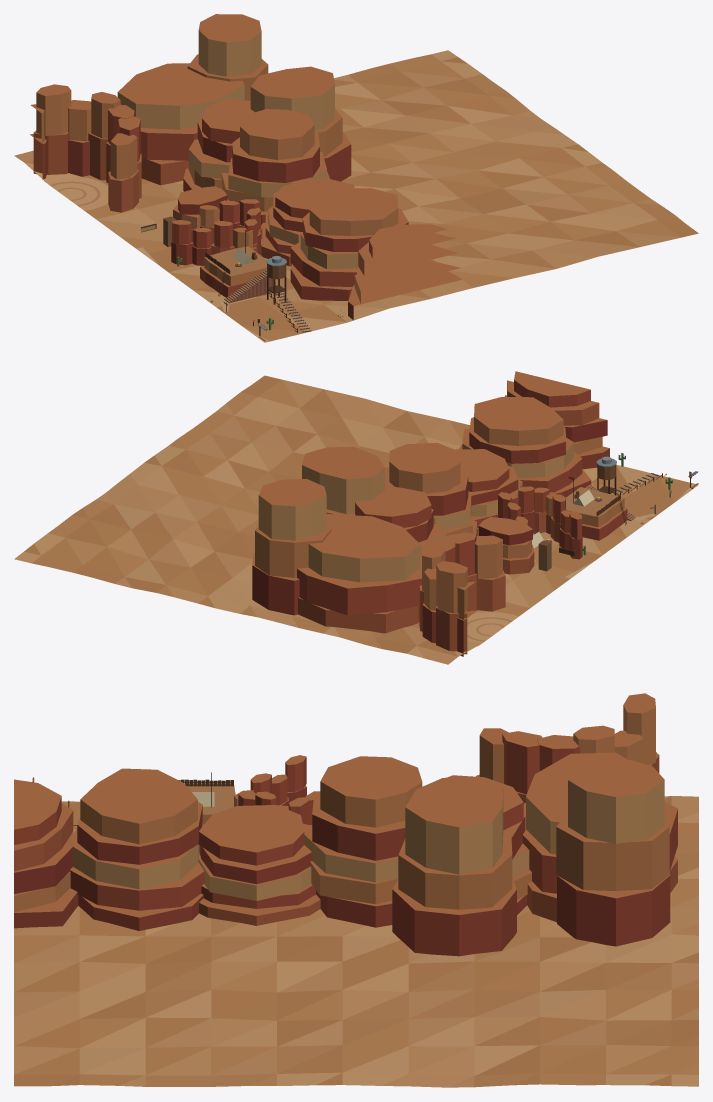
3 renders of one model, top to bottom at view 1: azimuth 30°, elevation 25°; view 2: azimuth 150°, elevation 25°; view 3: azimuth 270°, elevation 25°, orthographic. The views are drawn at different scales.
Parts seen in each view (by area): view 1: baked; view 2: baked; view 3: baked.
Boxes of the visible parts, x1,y1,x2,y2 form: baked: (14,14,698,342); baked: (14,371,698,664); baked: (14,693,698,1087).
Size of the model in its own units: 125 by 29.77 by 125.
